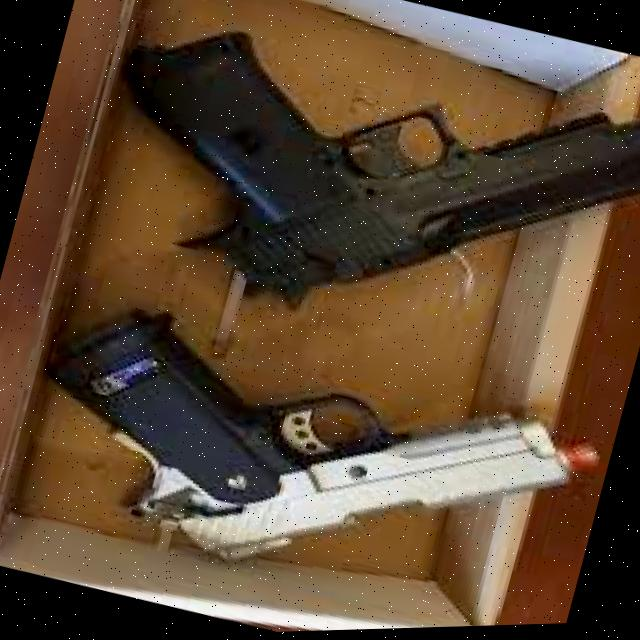pistol: (69, 0, 640, 411), (0, 269, 615, 640)
